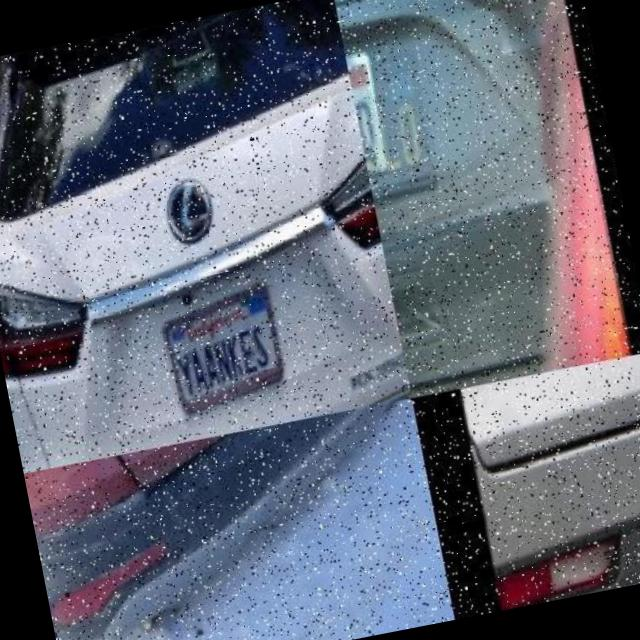LicensePlate: (160, 292, 304, 412), (344, 36, 446, 186)
